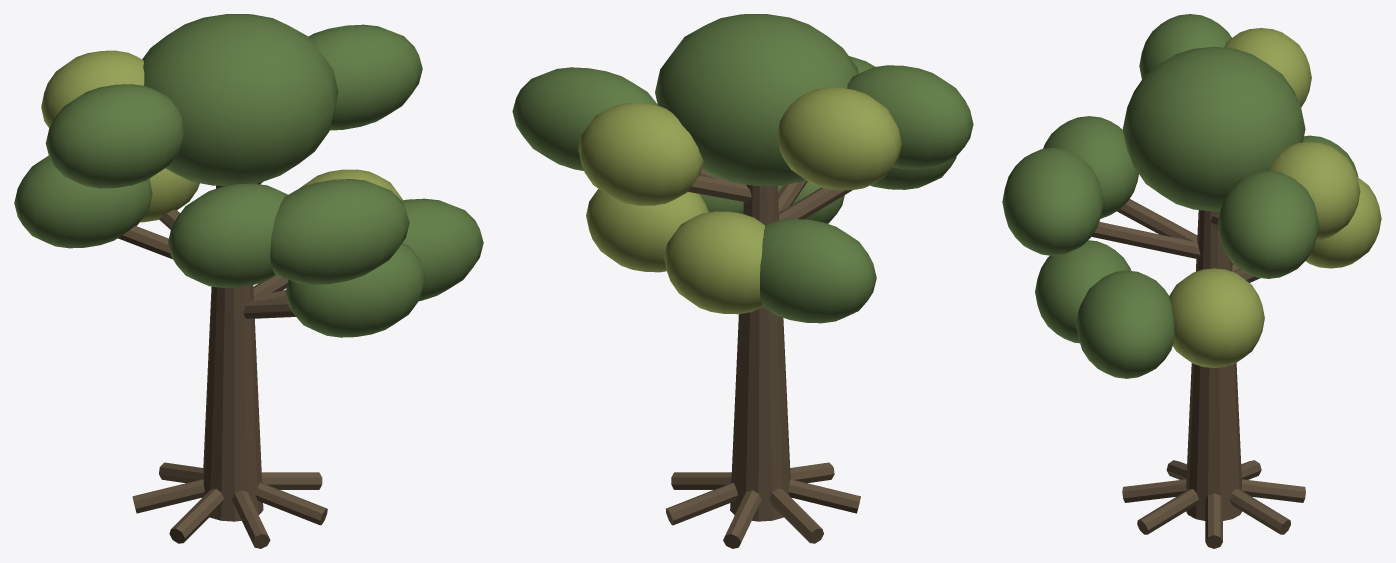
The model's file is SM_Beech.fbx.
3 renders of one model, left to right at view 1: azimuth 30°, elevation 25°; view 2: azimuth 150°, elevation 25°; view 3: azimuth 270°, elevation 25°, orthographic. The views are drawn at different scales.
Parts seen in each view (by area): view 1: Upper_canopy, Leaf_cluster.002, Leaf_cluster.004, Bole_taper, Leaf_cluster.007, Leaf_cluster.001, Leaf_cluster.008, Leaf_cluster.010, Leaf_cluster.005, Leaf_cluster.009, Leaf_cluster.006, Buttress_root.006 (+8 smaller); view 2: Upper_canopy, Bole_taper, Leaf_cluster.009, Leaf_cluster.001, Leaf_cluster.003, Leaf_cluster.006, Leaf_cluster.004, Leaf_cluster.008, Leaf_cluster, Buttress_root.001, Buttress_root.004, Leaf_cluster.007 (+8 smaller); view 3: Upper_canopy, Bole_taper, Leaf_cluster.008, Leaf_cluster.002, Leaf_cluster.005, Leaf_cluster, Leaf_cluster.010, Leaf_cluster.003, Leaf_cluster.007, Leaf_cluster.006, Leaf_cluster.004, Leaf_cluster.009 (+7 smaller).
Part boxes in pixels (x1,y1,x2,y2): Upper_canopy: (142, 14, 338, 185); Leaf_cluster.002: (270, 179, 409, 284); Leaf_cluster.004: (45, 84, 184, 188); Bole_taper: (203, 185, 263, 521); Leaf_cluster.007: (168, 183, 287, 287); Leaf_cluster.001: (14, 155, 152, 248); Leaf_cluster.008: (309, 24, 422, 130); Leaf_cluster.010: (285, 243, 426, 337); Leaf_cluster.005: (401, 198, 483, 301); Leaf_cluster.009: (41, 50, 144, 128); Leaf_cluster.006: (140, 168, 199, 222); Buttress_root.006: (255, 483, 327, 525); Upper_canopy: (655, 14, 858, 185); Bole_taper: (730, 184, 791, 521); Leaf_cluster.009: (777, 87, 901, 190); Leaf_cluster.001: (760, 219, 876, 323); Leaf_cluster.003: (578, 103, 703, 205); Leaf_cluster.006: (664, 211, 765, 314); Leaf_cluster.004: (847, 65, 973, 169); Leaf_cluster.008: (512, 67, 657, 170); Leaf_cluster: (586, 189, 708, 272); Buttress_root.001: (666, 483, 737, 525); Buttress_root.004: (788, 479, 860, 513); Leaf_cluster.007: (870, 156, 956, 189); Upper_canopy: (1122, 47, 1305, 211); Bole_taper: (1186, 210, 1241, 520); Leaf_cluster.008: (1217, 170, 1318, 278); Leaf_cluster.002: (1002, 147, 1103, 255); Leaf_cluster.005: (1076, 270, 1174, 378); Leaf_cluster: (1169, 268, 1264, 367); Leaf_cluster.010: (1035, 240, 1131, 343); Leaf_cluster.003: (1268, 141, 1360, 240); Leaf_cluster.007: (1043, 116, 1138, 218); Leaf_cluster.006: (1305, 177, 1381, 268); Leaf_cluster.004: (1139, 14, 1231, 79); Leaf_cluster.009: (1224, 28, 1311, 107).
Bounding box in the file's own units: 649 × 560 × 738.
